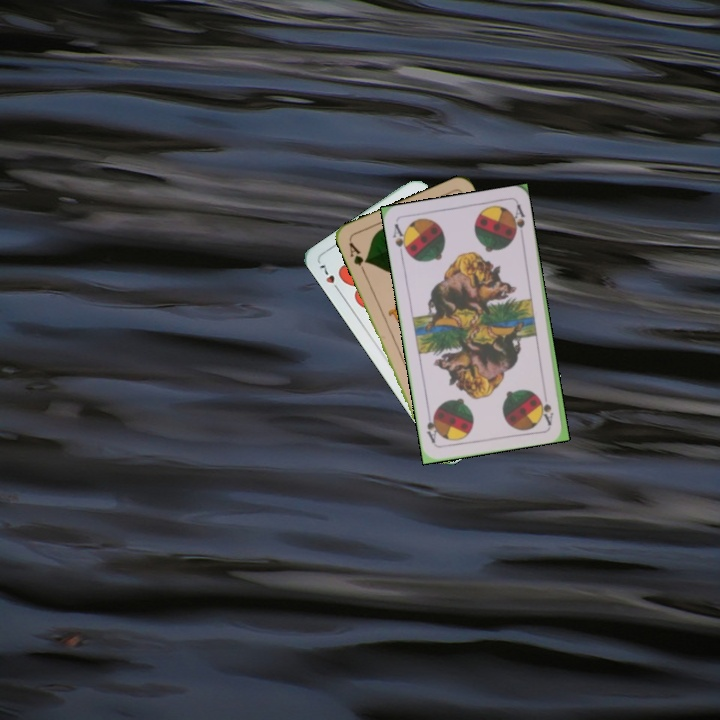GA: (345, 239, 371, 276)
H7: (315, 260, 343, 295)
SA: (389, 220, 412, 260), (539, 386, 556, 427)
